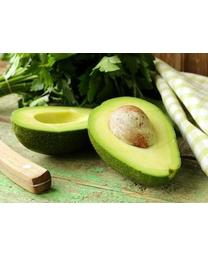avocado: (87, 97, 182, 186), (10, 104, 102, 158)
